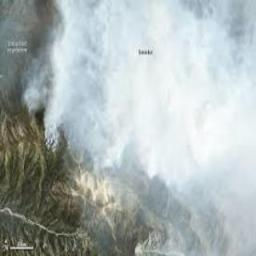Heavy smoke: (29, 0, 256, 256)
